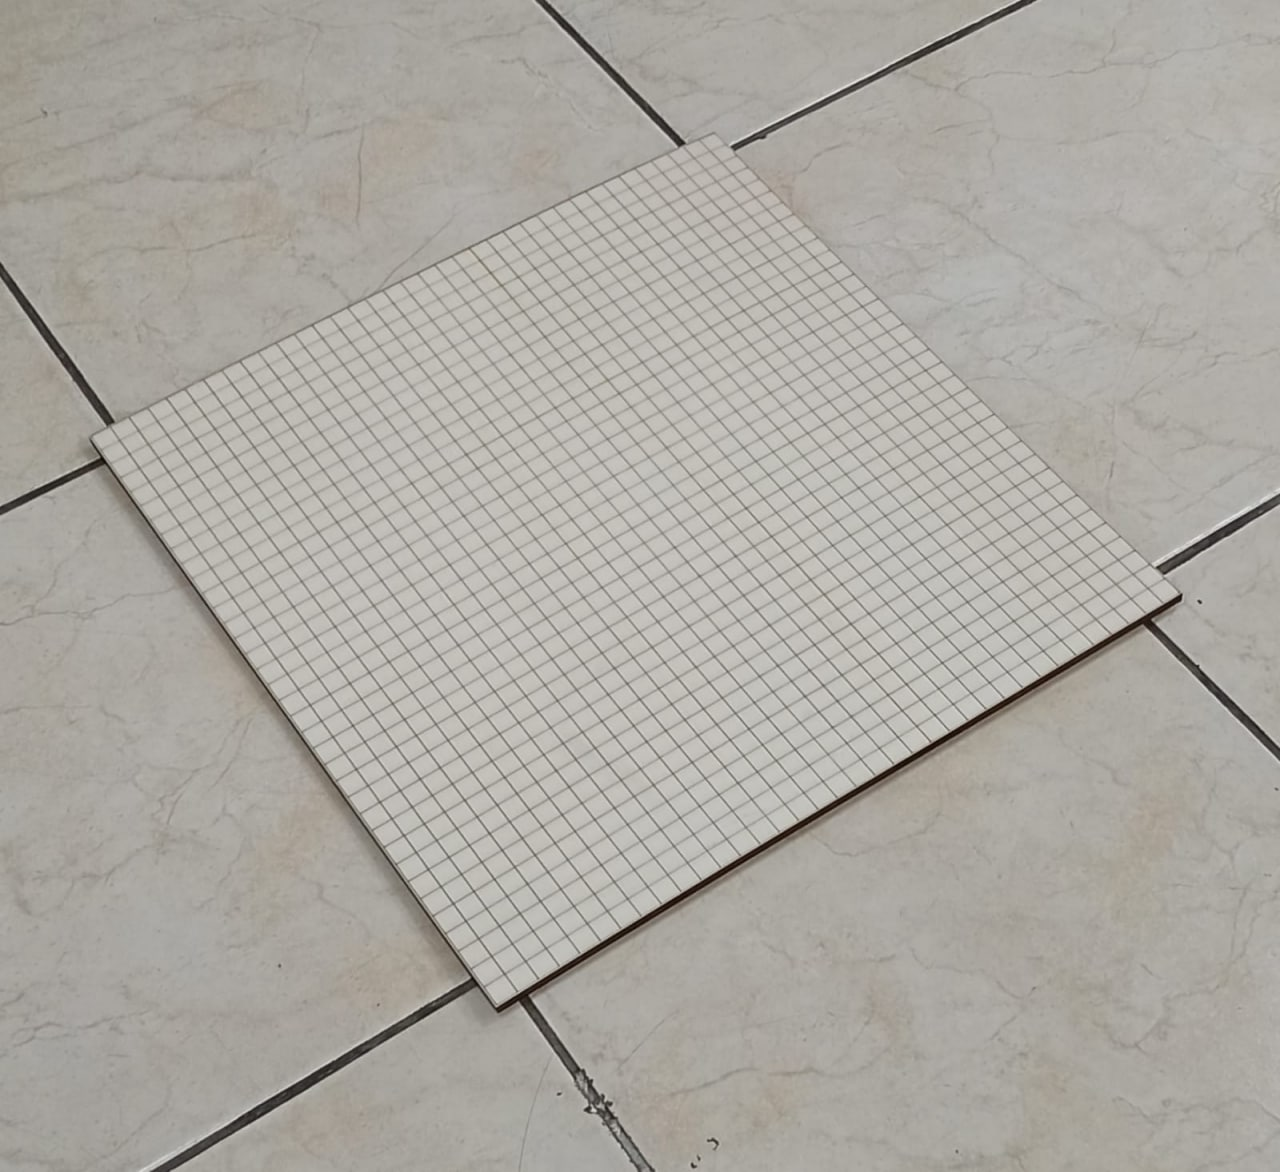grid: (85, 129, 1190, 1020)
